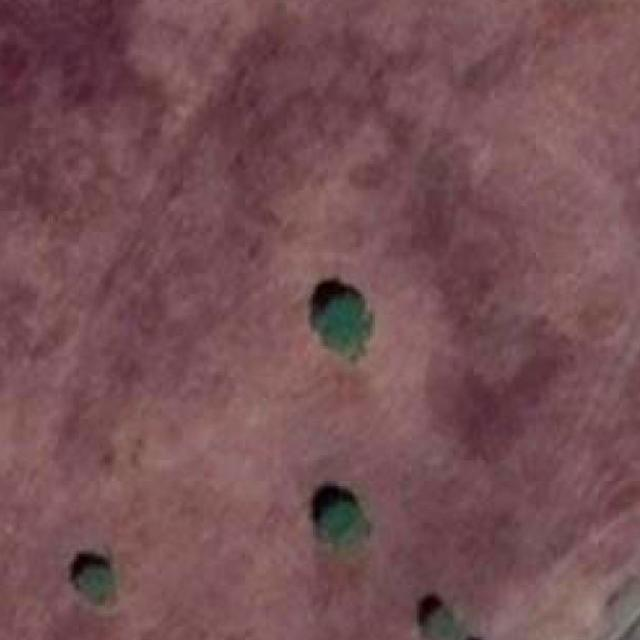Tree: (318, 294, 370, 351), (323, 499, 365, 546), (79, 564, 108, 599), (427, 609, 458, 640)
